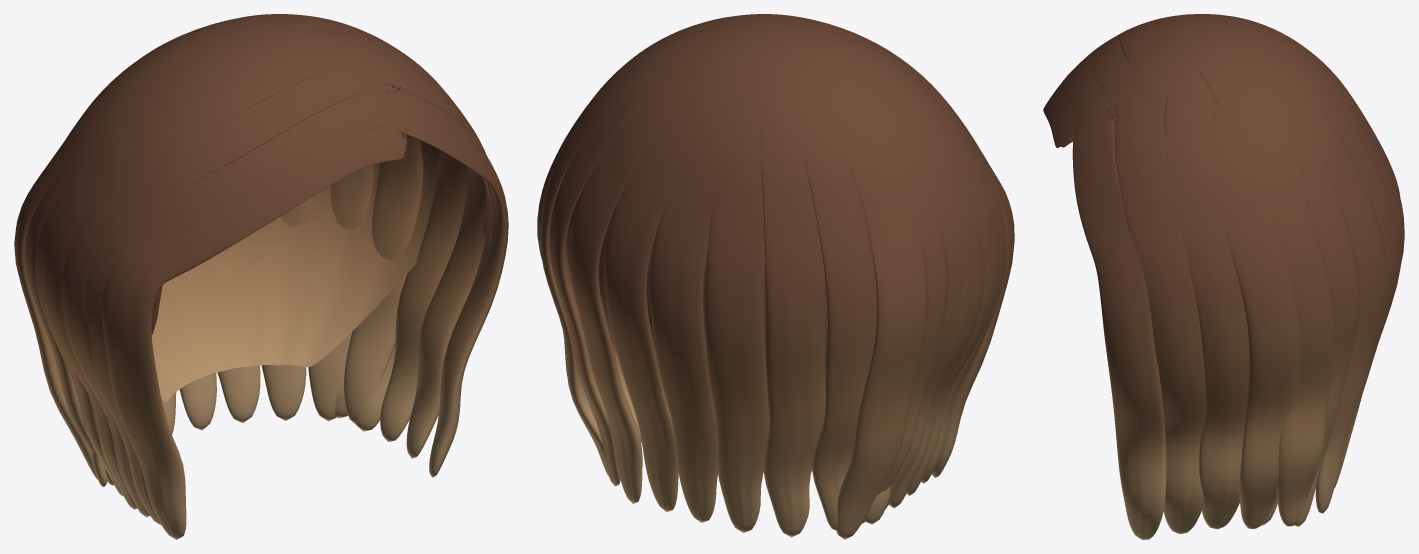
File: Feminine-side-sweep-cowboy261-hair-ombre.glb
3 views of the same model, side by side, from view 1: azimuth 30°, elevation 25°; view 2: azimuth 150°, elevation 25°; view 3: azimuth 270°, elevation 25° (orthographic). The views are drawn at different scales.
Parts seen in each view (by area): view 1: 226 hair / Hair / sculpted 0.002, 226 hair / Hair / sculpted 1.004, 226 hair / Hair / sculpted 2.002, 226 hair / Hair / sculpted 1.003; view 2: 226 hair / Hair / sculpted 0.002, 226 hair / Hair / sculpted 2.002, 226 hair / Hair / sculpted 1.004, 226 hair / Hair / sculpted 1.003; view 3: 226 hair / Hair / sculpted 1.004, 226 hair / Hair / sculpted 2.002, 226 hair / Hair / sculpted 0.002.
Boxes of the visible parts, left/top/right/bottom form: 226 hair / Hair / sculpted 0.002: left=14, top=14, right=467, bottom=539; 226 hair / Hair / sculpted 1.004: left=35, top=15, right=508, bottom=524; 226 hair / Hair / sculpted 2.002: left=25, top=15, right=489, bottom=517; 226 hair / Hair / sculpted 1.003: left=151, top=87, right=491, bottom=401; 226 hair / Hair / sculpted 0.002: left=569, top=14, right=1014, bottom=539; 226 hair / Hair / sculpted 2.002: left=539, top=17, right=1000, bottom=530; 226 hair / Hair / sculpted 1.004: left=537, top=16, right=1006, bottom=537; 226 hair / Hair / sculpted 1.003: left=566, top=191, right=827, bottom=379; 226 hair / Hair / sculpted 1.004: left=1061, top=14, right=1401, bottom=539; 226 hair / Hair / sculpted 2.002: left=1086, top=14, right=1404, bottom=534; 226 hair / Hair / sculpted 0.002: left=1043, top=15, right=1400, bottom=529.
Size of the model in its own units: 1.01 by 1.05 by 0.78.
